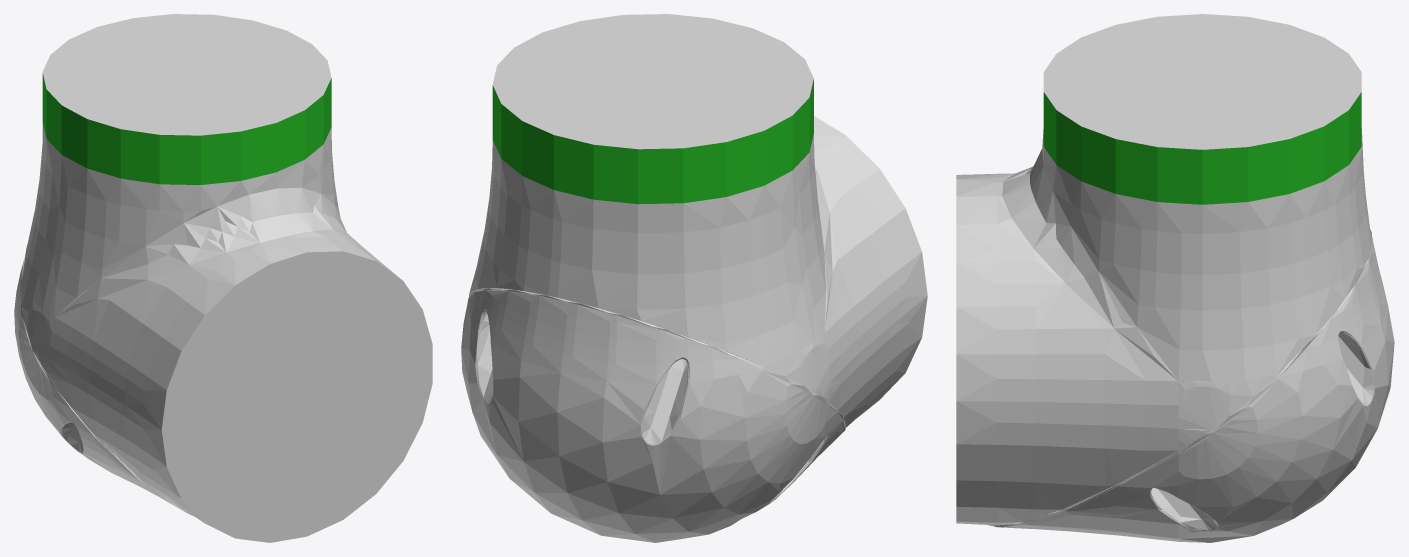
The picture shows the model from 3 angles, left to right: view 1: azimuth 30°, elevation 25°; view 2: azimuth 150°, elevation 25°; view 3: azimuth 270°, elevation 25°; orthographic projection. The views are drawn at different scales.
Parts seen in each view (by area): view 1: node; view 2: node; view 3: node.
Part boxes in pixels (left/top/right/bottom): node: left=14, top=14, right=432, bottom=542; node: left=461, top=14, right=927, bottom=542; node: left=956, top=14, right=1394, bottom=542.
Size of the model in its own units: 110 by 140 by 125.
